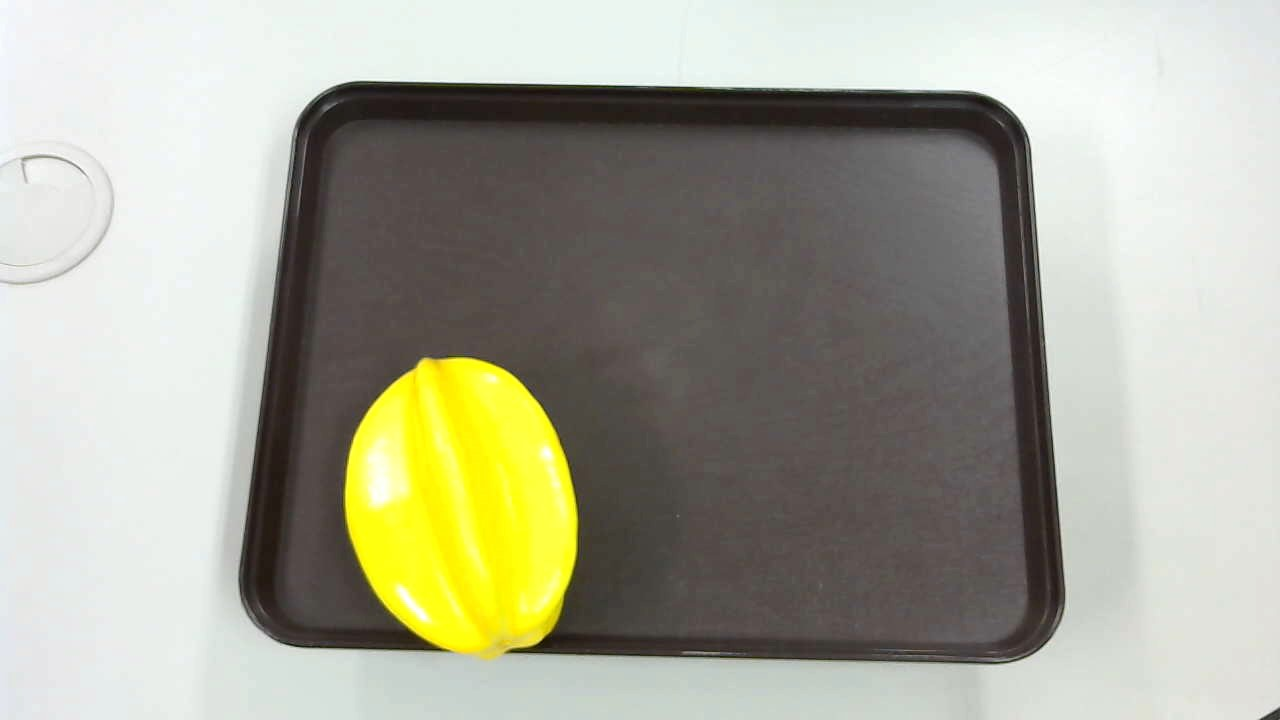star fruit: (334, 356, 583, 664)
